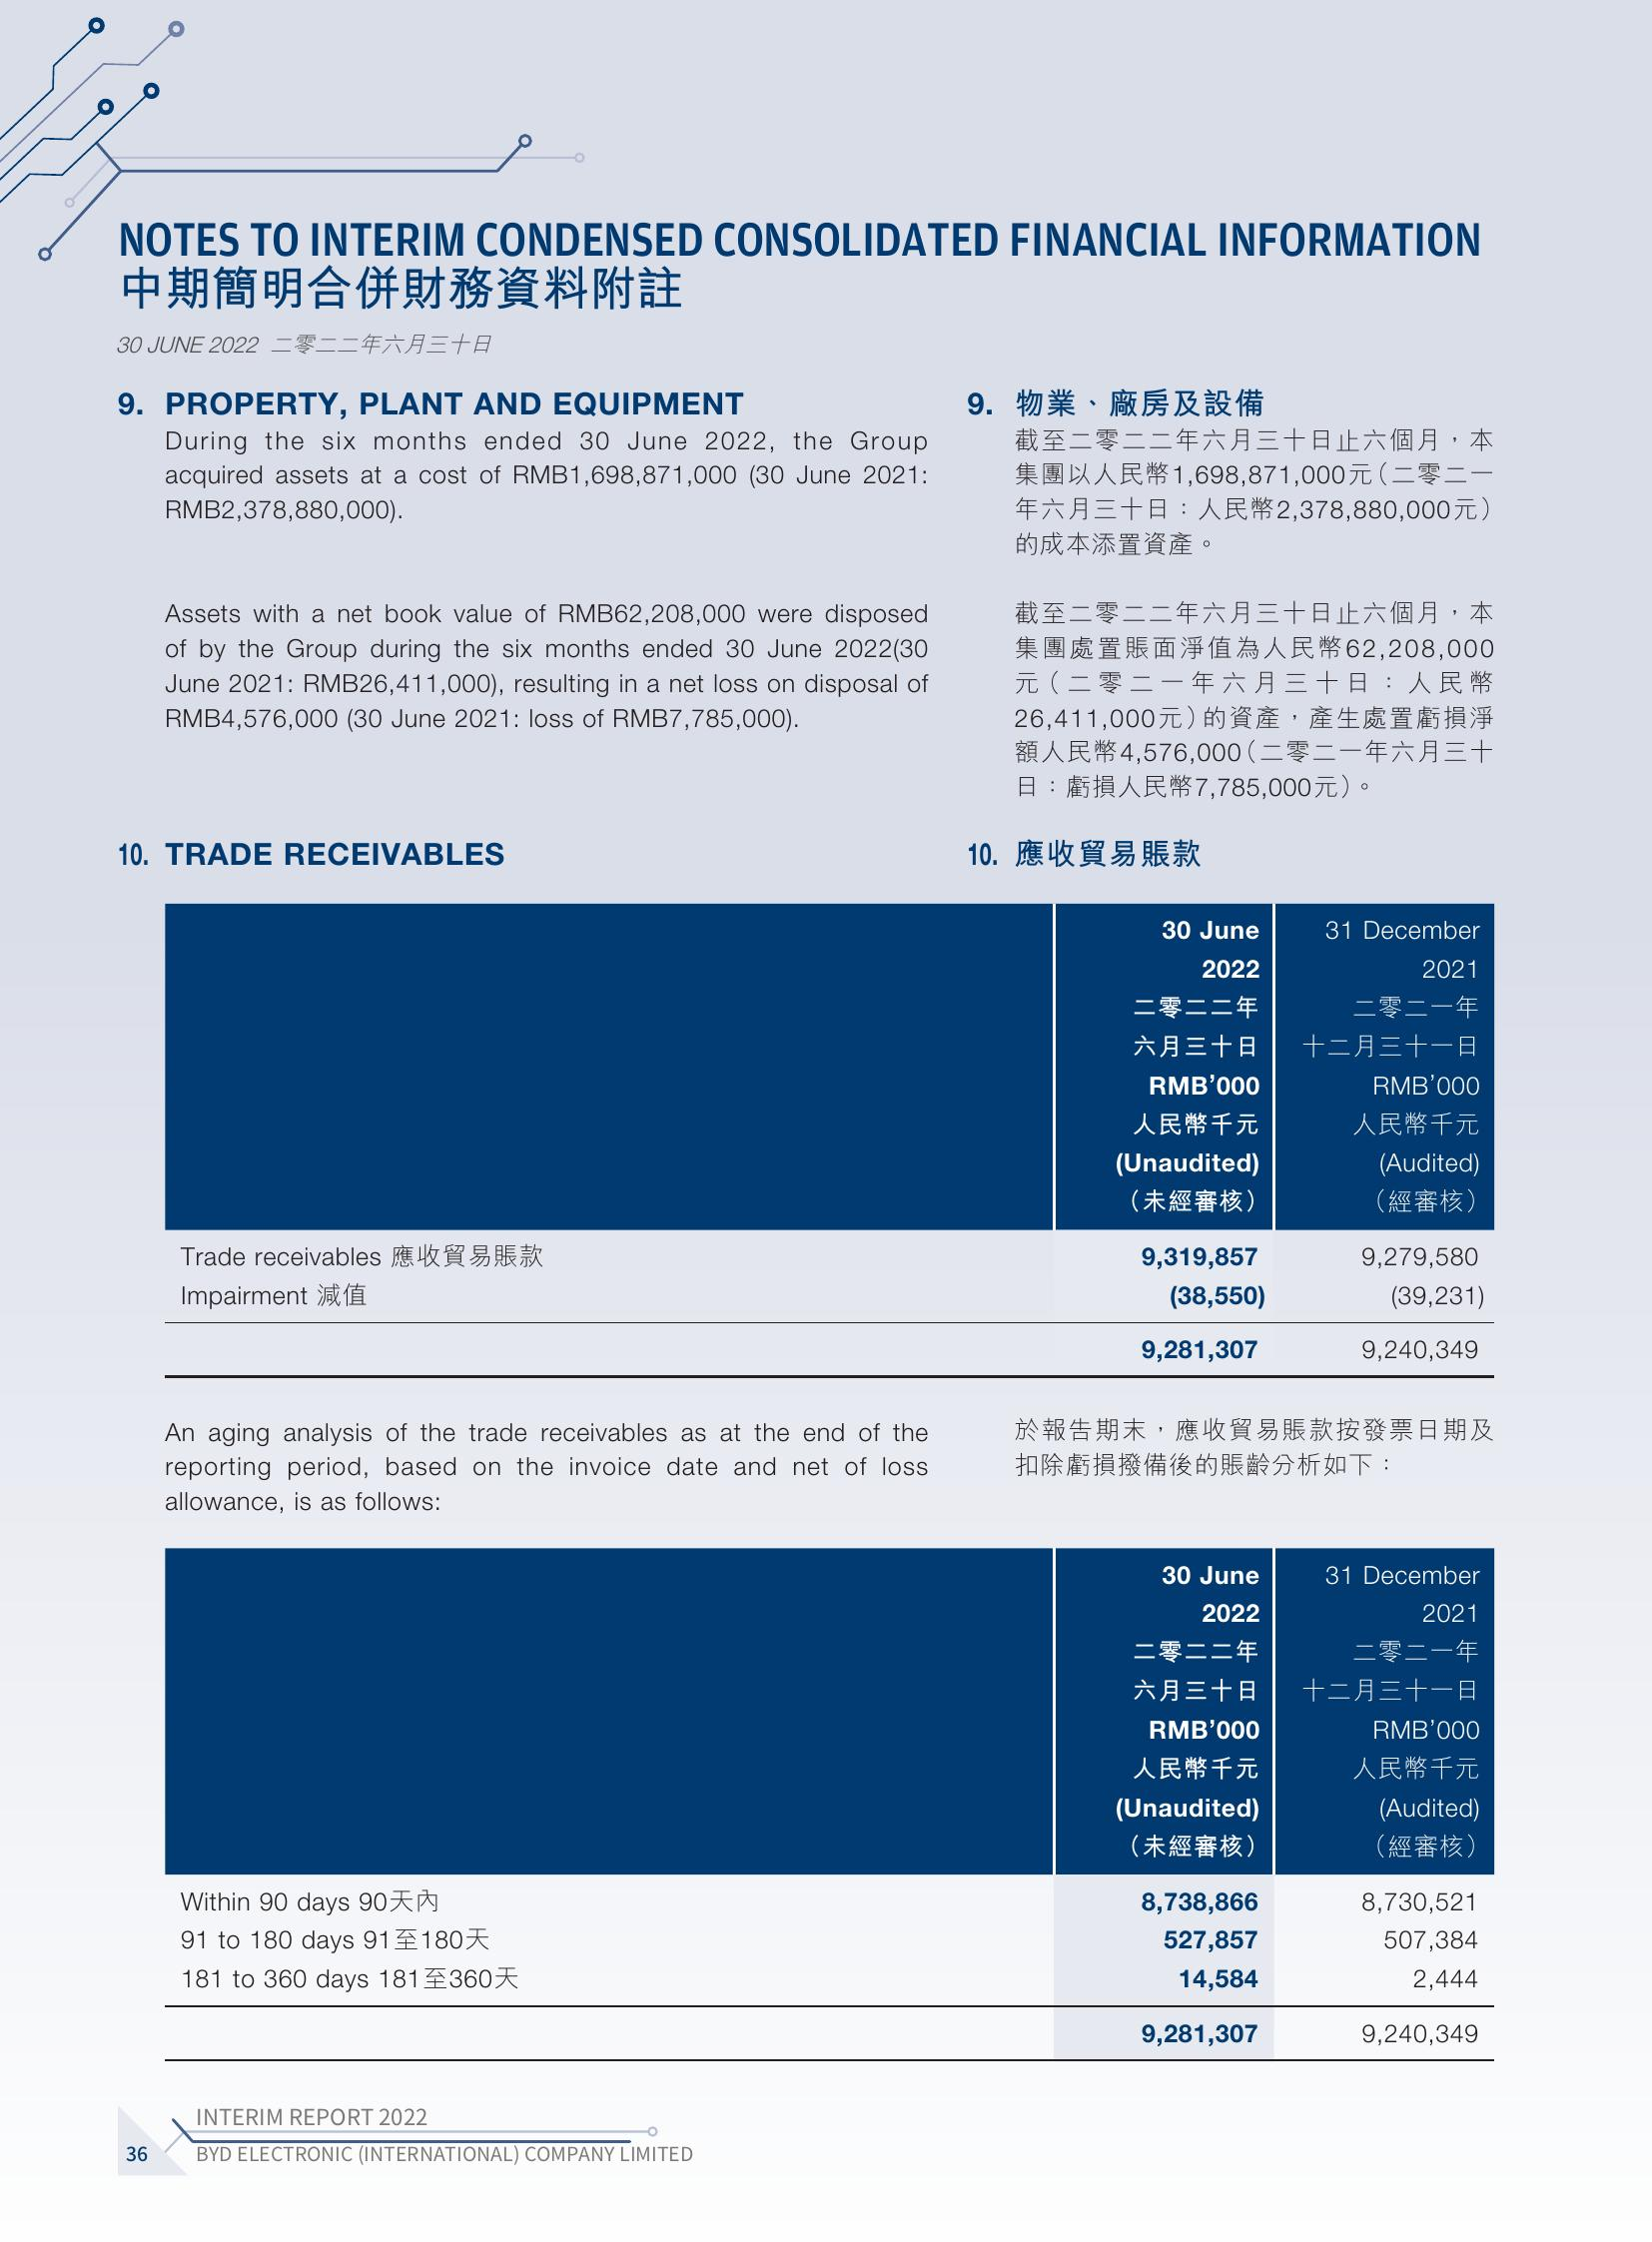Footer: (0, 2089, 1652, 2242)
Header: (0, 0, 1652, 197)
Table: (139, 1547, 1525, 2071), (144, 879, 1534, 1394)
